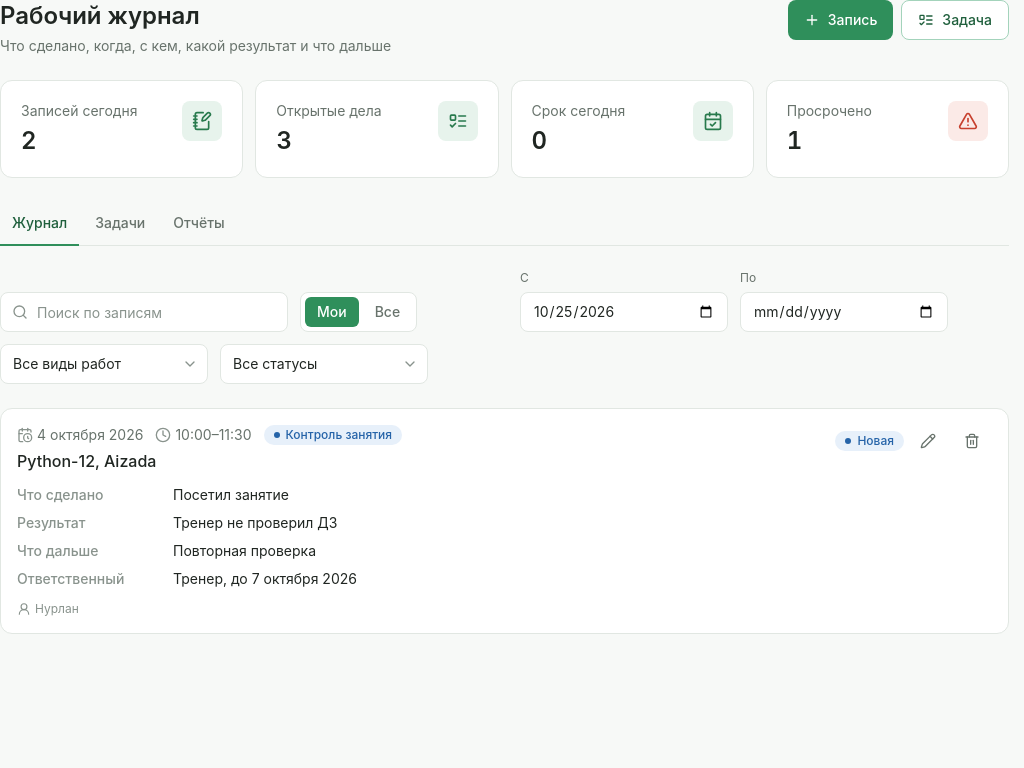
Рабочий журнал › shows the backend field errors of a record that misses an answer
Click the button "Запись". click: {"x": 841, "y": 20}
box: [788,0,893,40]
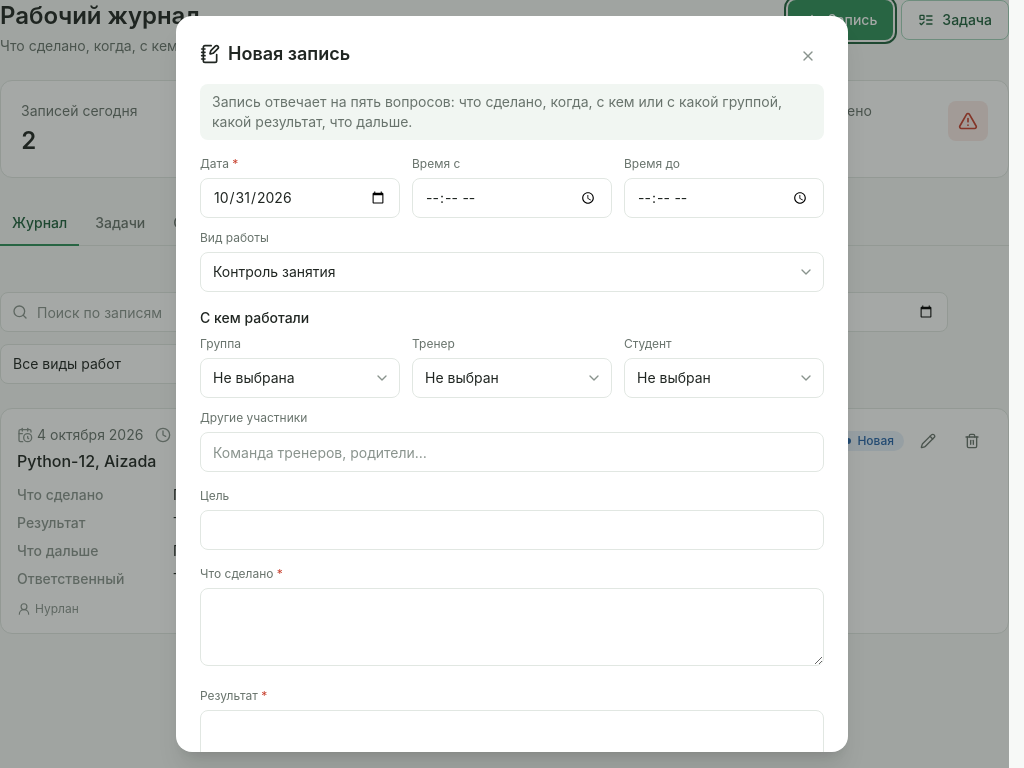
Type "Проверил журнал" into the text box labelled "Что сделано *". click: {"x": 512, "y": 627}
box: [200,588,824,666]
(page scrolled)
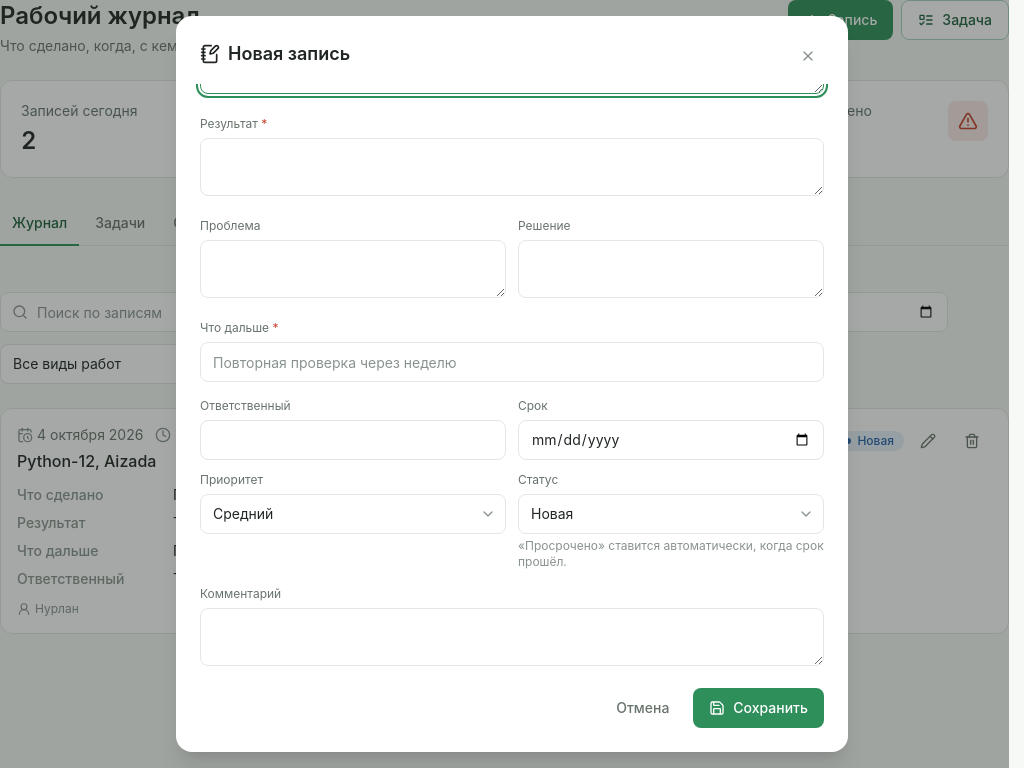
Click the button "Сохранить". click: {"x": 759, "y": 708}
box: [693,688,824,728]
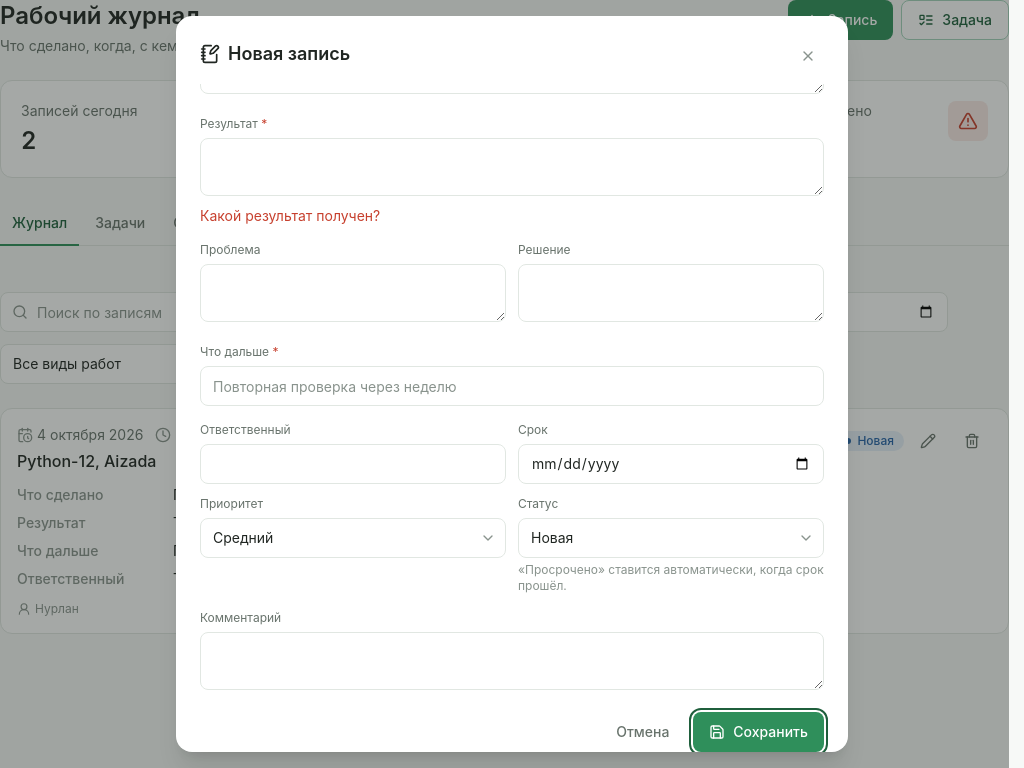
Expected: the text "Какой результат получен?" is shown, [200,207,380,224]
